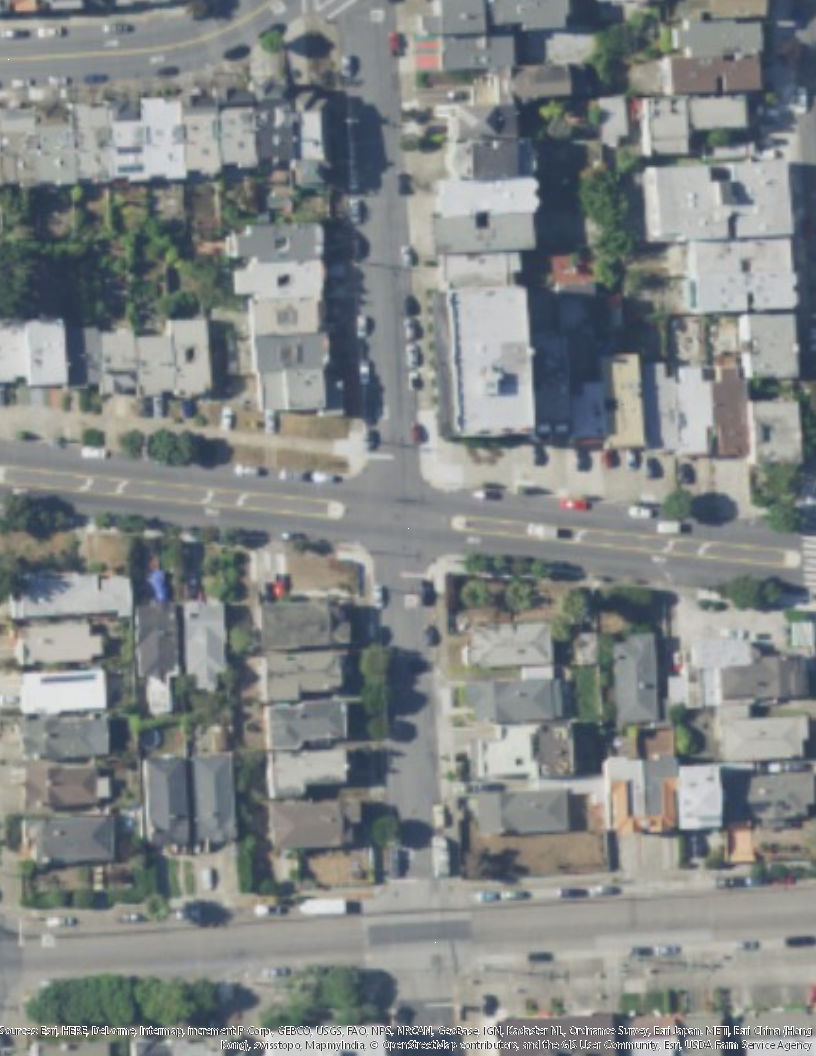zebracross: (805, 533, 816, 593)
